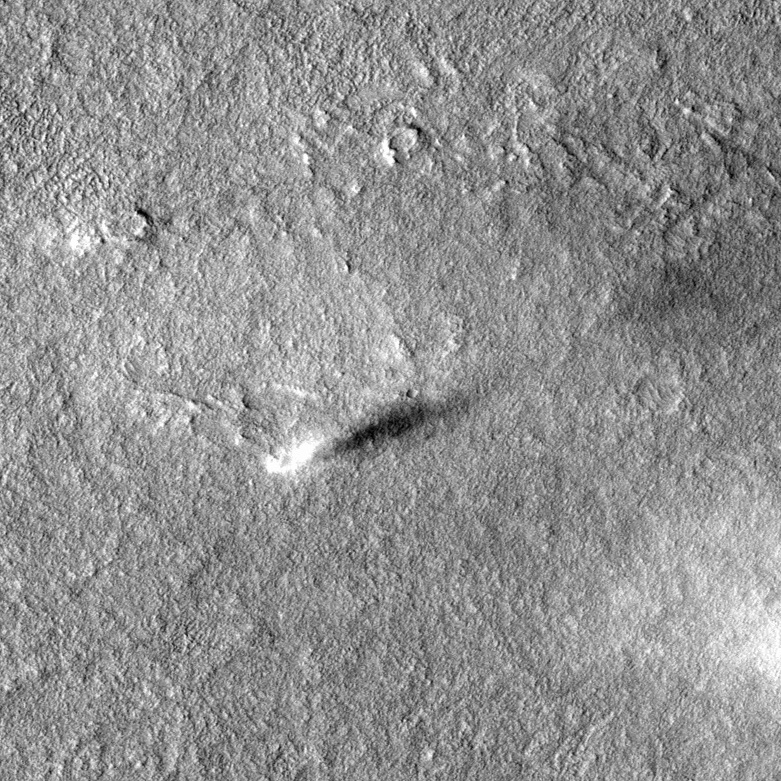dust_devil: (261, 385, 476, 476)
